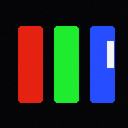4 line_v: (107, 41, 113, 67)
